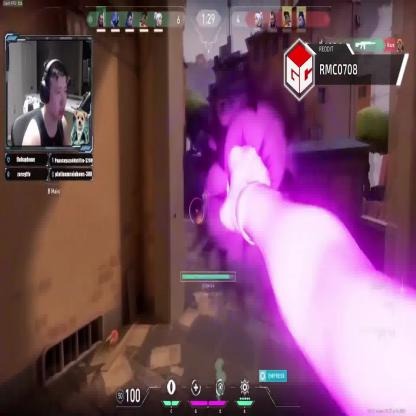enemy: (202, 187, 210, 217)
enemy_head: (204, 188, 206, 194)
